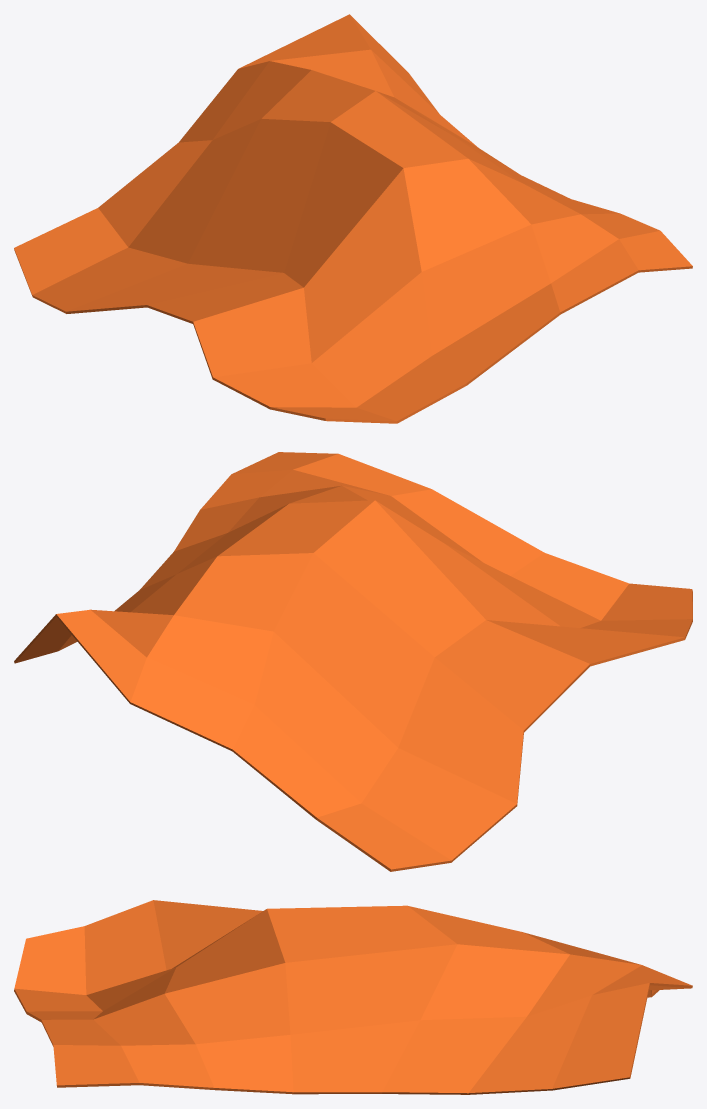
File: Boss_plastic wrap 3.fbx
3 views of the same model, one above another, from view 1: azimuth 30°, elevation 25°; view 2: azimuth 150°, elevation 25°; view 3: azimuth 270°, elevation 25° (orthographic). The views are drawn at different scales.
Parts seen in each view (by area): view 1: Plane; view 2: Plane; view 3: Plane.
Boxes of the visible parts, x1,y1,x2,y2 form: Plane: [14, 14, 692, 423]; Plane: [14, 452, 692, 871]; Plane: [14, 900, 692, 1094].
Size of the model in its own units: 15.25 by 6.08 by 19.06.
